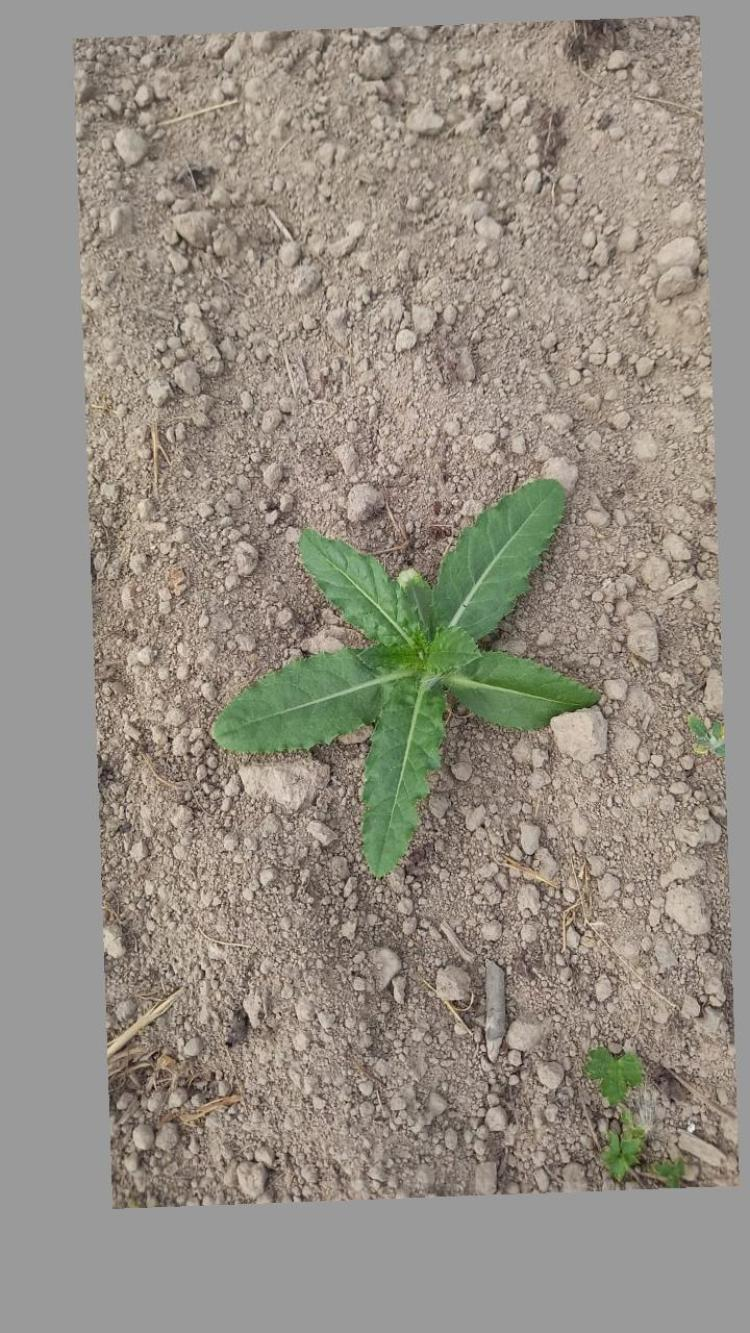osot: (209, 464, 610, 877)
